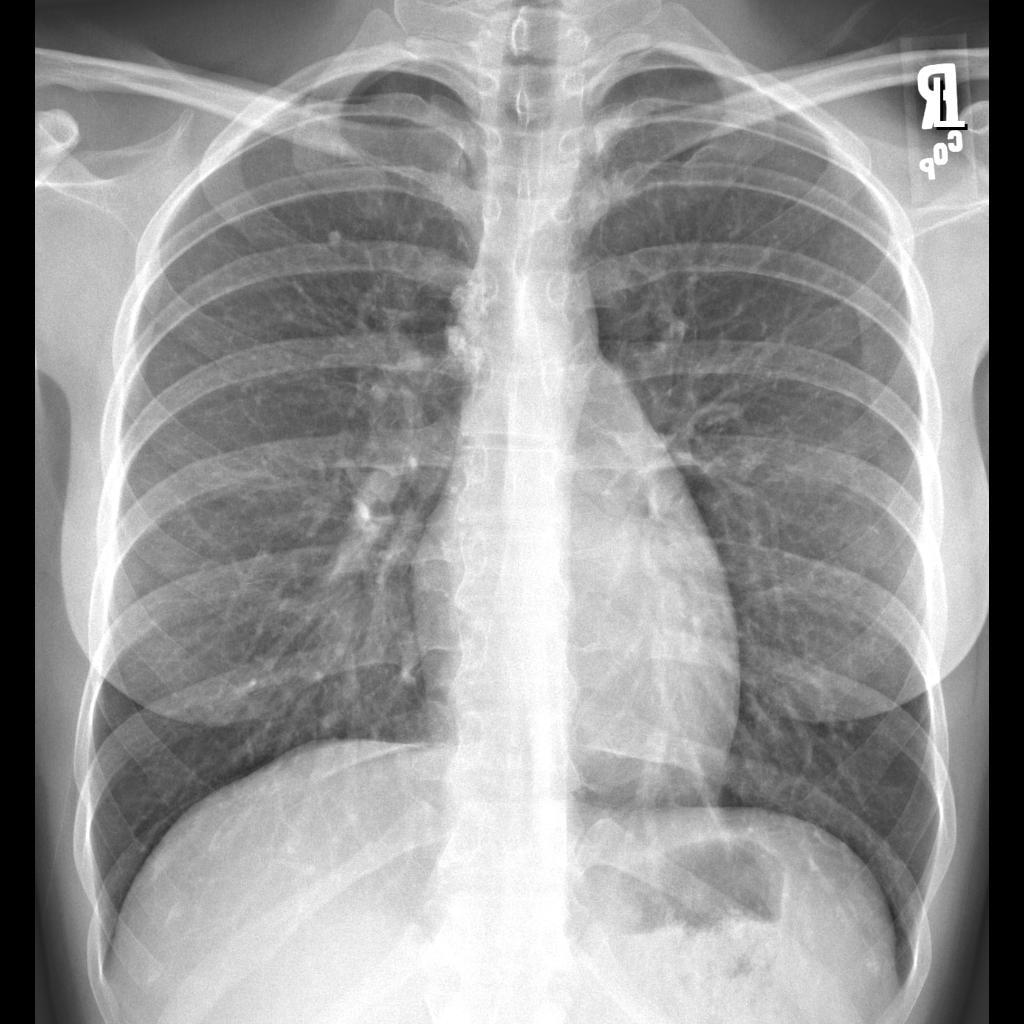Nodule: (323, 226, 348, 262)
